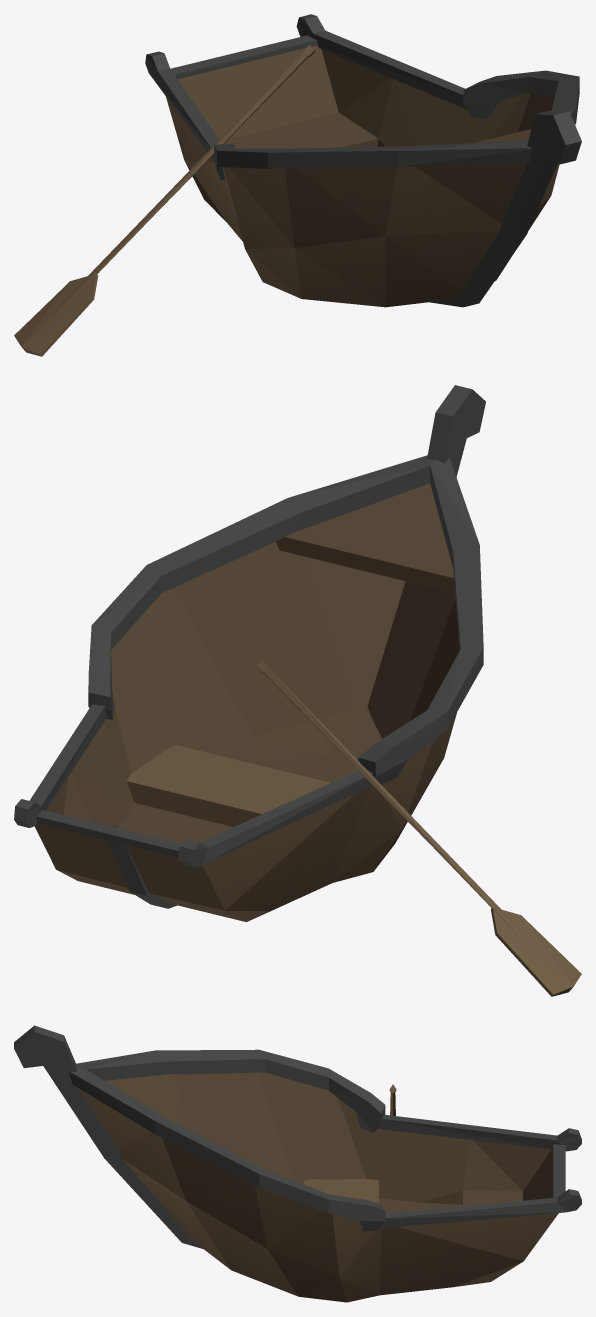
The model's file is ZLP_Build_F_7.FBX.
3 views of the same model, one above another, from view 1: azimuth 30°, elevation 25°; view 2: azimuth 150°, elevation 25°; view 3: azimuth 270°, elevation 25° (orthographic). The views are drawn at different scales.
Visible parts, largest first — view 1: ZLP_Build_F_7; view 2: ZLP_Build_F_7; view 3: ZLP_Build_F_7.
Boxes of the visible parts, x1,y1,x2,y2 form: ZLP_Build_F_7: (14,14,581,356); ZLP_Build_F_7: (14,385,581,996); ZLP_Build_F_7: (14,1025,581,1302).
Size of the model in its own units: 190 by 120 by 235.
